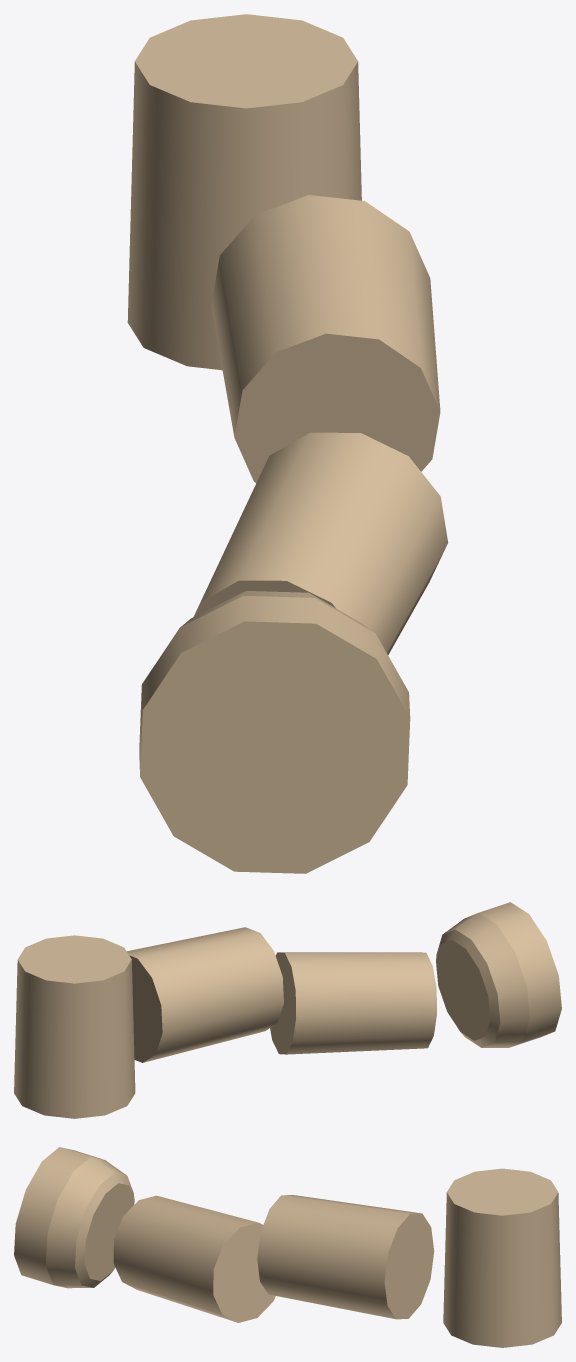
File: egypt_columnfall1.fbx
3 views of the same model, one above another, from view 1: azimuth 30°, elevation 25°; view 2: azimuth 150°, elevation 25°; view 3: azimuth 270°, elevation 25° (orthographic). The views are drawn at different scales.
Visible parts, largest first — view 1: pCylinder24, pCylinder16, pCylinder17, pCylinder18; view 2: pCylinder16, pCylinder17, pCylinder18, pCylinder24; view 3: pCylinder16, pCylinder17, pCylinder18, pCylinder24.
Part boxes in pixels (x1,y1,x2,y2): pCylinder24: [139, 591, 410, 873]; pCylinder16: [127, 14, 361, 370]; pCylinder17: [211, 195, 440, 482]; pCylinder18: [193, 432, 448, 654]; pCylinder16: [14, 935, 135, 1118]; pCylinder17: [127, 927, 283, 1062]; pCylinder18: [270, 952, 436, 1054]; pCylinder24: [436, 902, 561, 1047]; pCylinder16: [443, 1168, 561, 1347]; pCylinder17: [257, 1195, 434, 1319]; pCylinder18: [113, 1195, 275, 1322]; pCylinder24: [14, 1147, 134, 1288].
Bounding box in the file's own units: 3.48 × 1.98 × 5.22.
